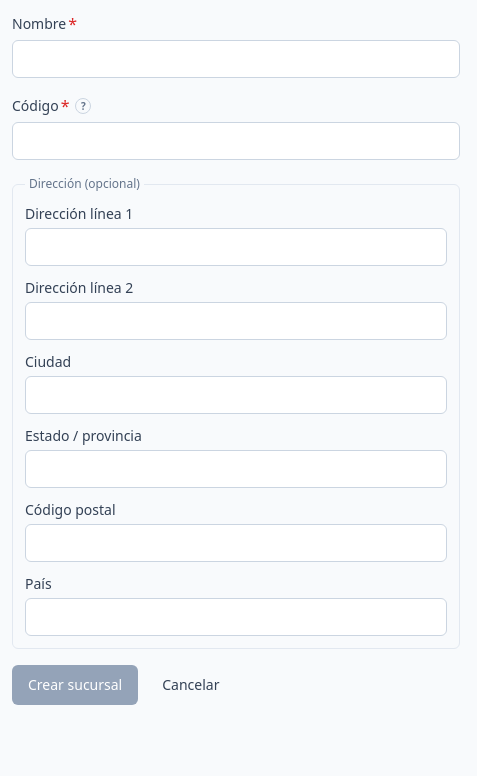
Test: WarehouseForm › create: surfaces a 409 code conflict safely
Step 1. Type "Depot" into the field labelled "Nombre" → (236, 59), box [12,40,460,78]
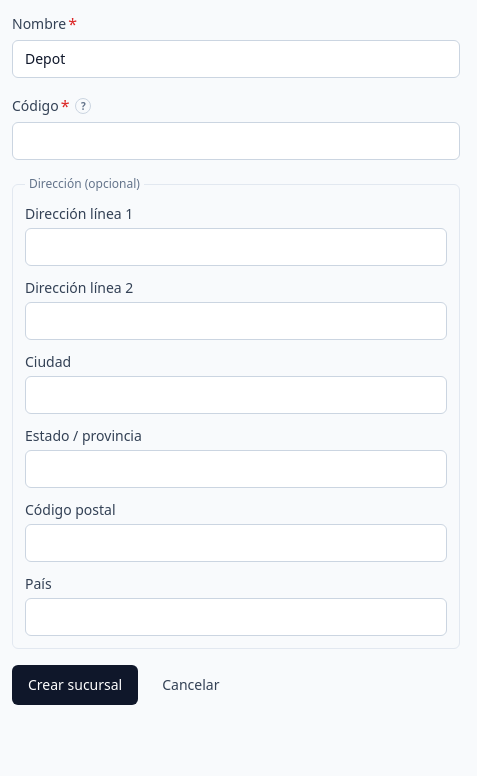
Step 2. Type "DEP" into the field labelled "Código" → (236, 141), box [12,122,460,160]
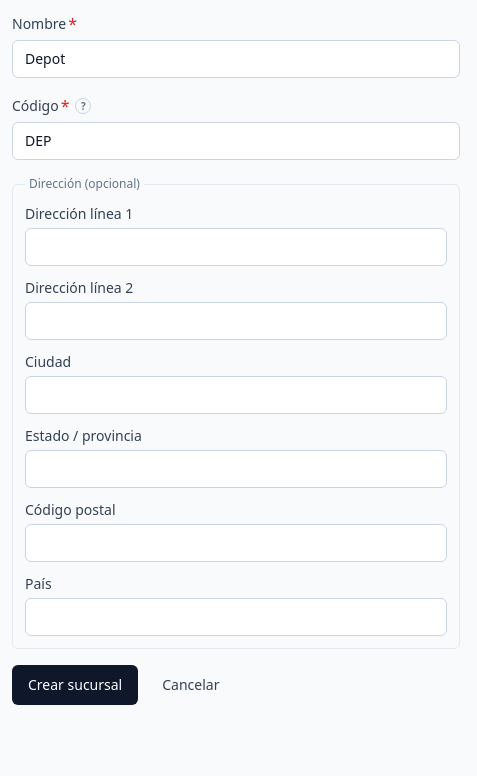
Step 3. Click the button "Crear sucursal" → click(75, 685), box [12,665,138,705]
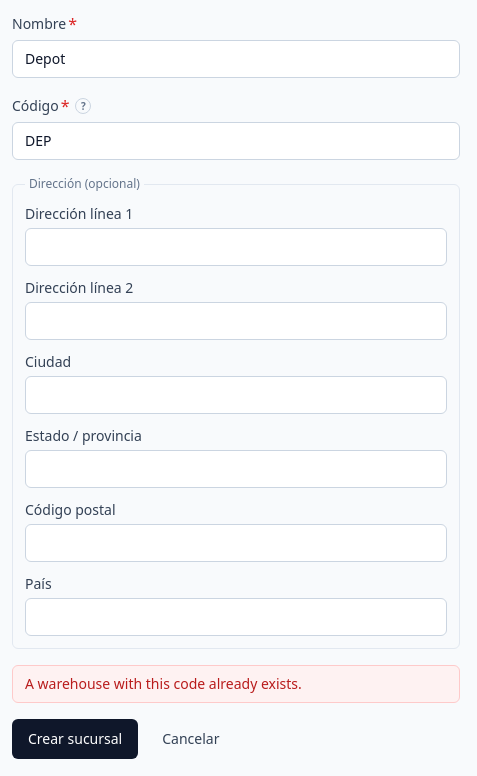
Expected: the text "A warehouse with this code already exists." is shown, [25,674,302,693]
